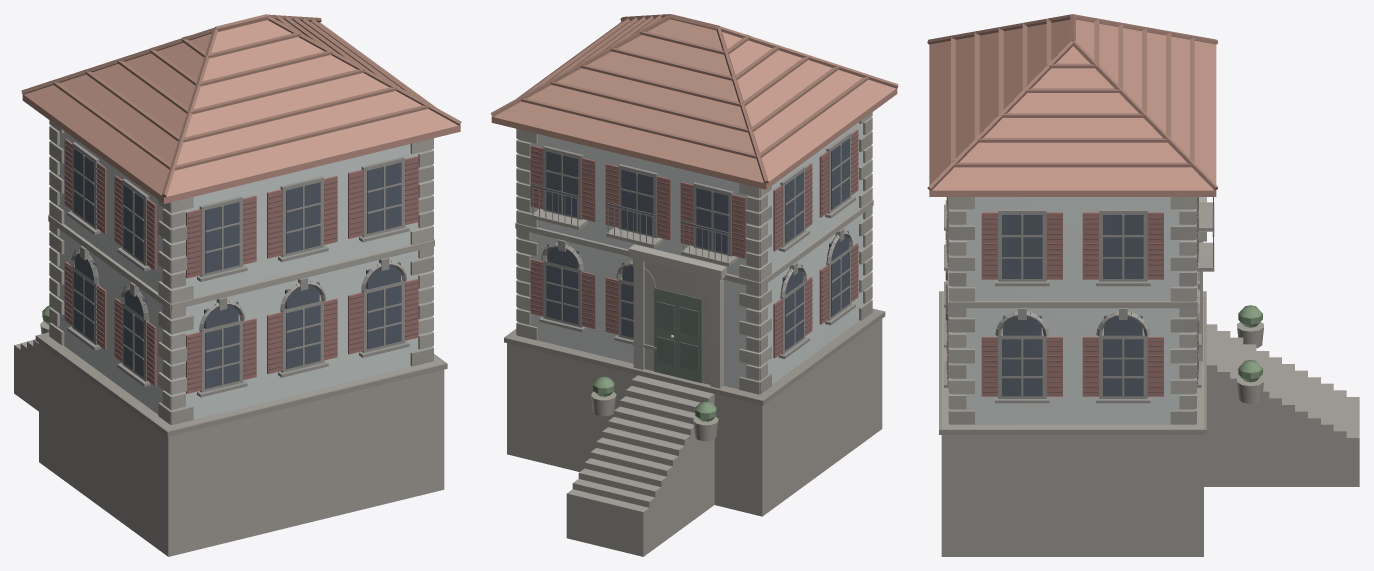
File: house_1_4.gltf
3 renders of one model, left to right at view 1: azimuth 30°, elevation 25°; view 2: azimuth 150°, elevation 25°; view 3: azimuth 270°, elevation 25°, orthographic. The views are drawn at different scales.
Parts seen in each view (by area): view 1: Body; view 2: Body; view 3: Body.
Boxes of the visible parts, x1,y1,x2,y2 form: Body: (14, 14, 461, 556); Body: (490, 14, 898, 556); Body: (927, 14, 1359, 556).
Size of the model in its own units: 8.71 by 12.62 by 10.7.
